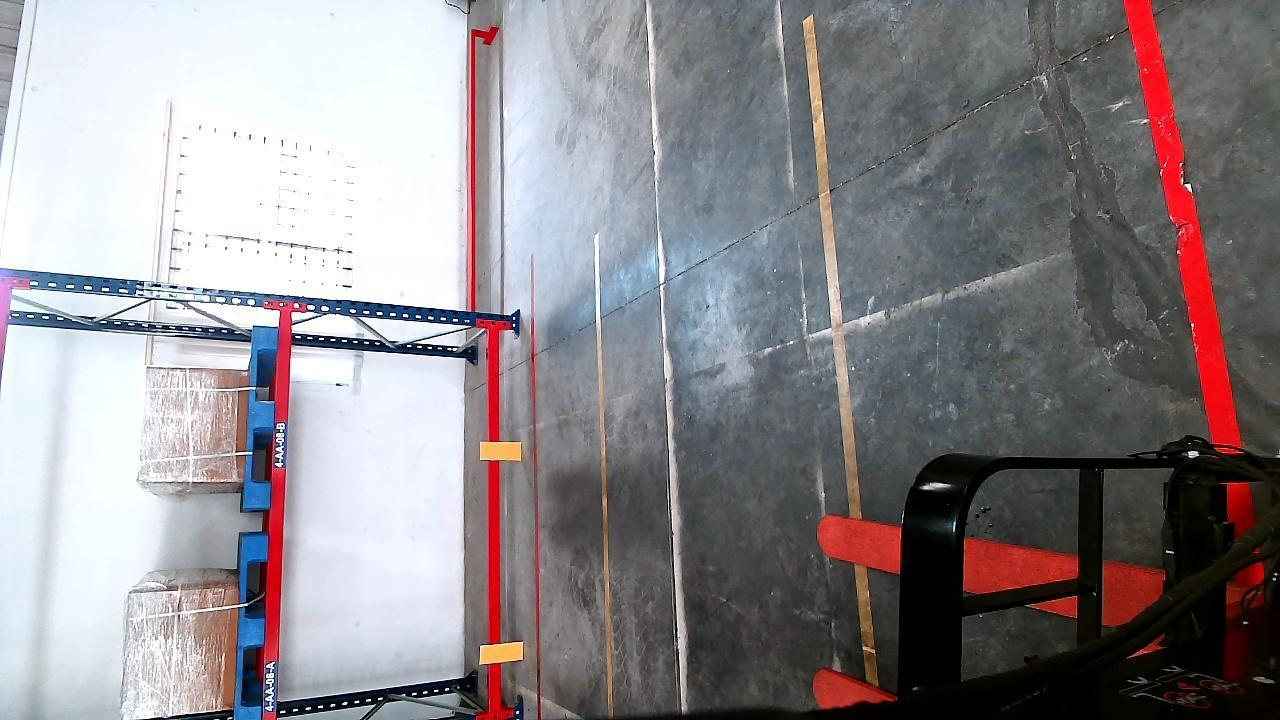h_rack: (1119, 0, 1247, 439), (265, 312, 293, 693), (481, 342, 507, 713)
orange_strip: (481, 639, 526, 664), (482, 440, 525, 462)
small_pallet: (245, 325, 280, 518), (236, 543, 271, 705)
yellow_line: (799, 13, 878, 693), (594, 242, 620, 717)
